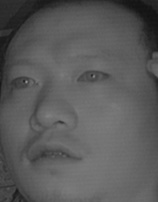eye: (75, 66, 112, 86), (8, 72, 40, 90)
mouth: (25, 137, 85, 172)
